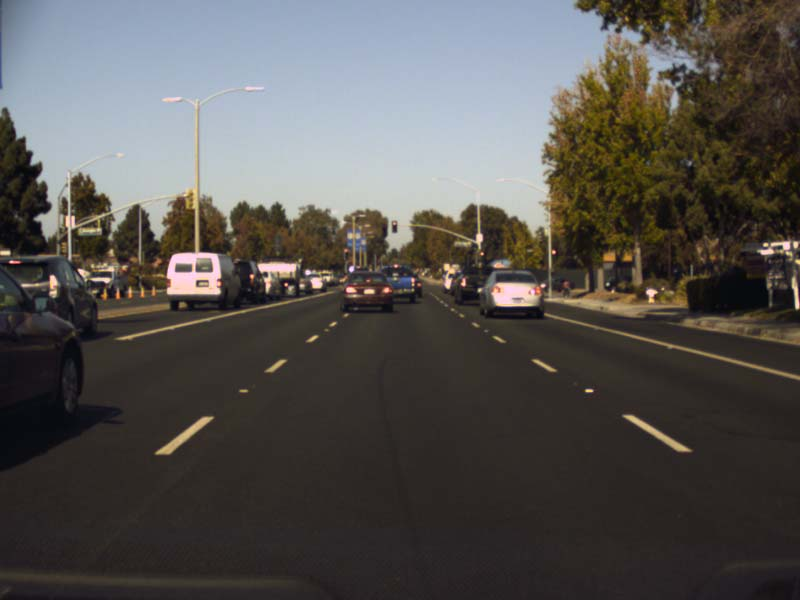Red: (478, 250, 484, 261), (391, 221, 396, 232), (551, 248, 556, 255)
Yellow: (342, 247, 349, 259)
